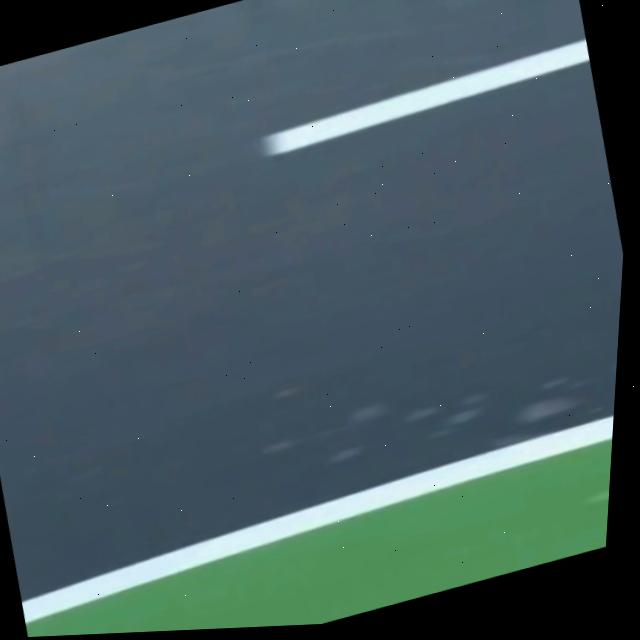center: (263, 37, 589, 152)
right: (21, 413, 614, 622)
